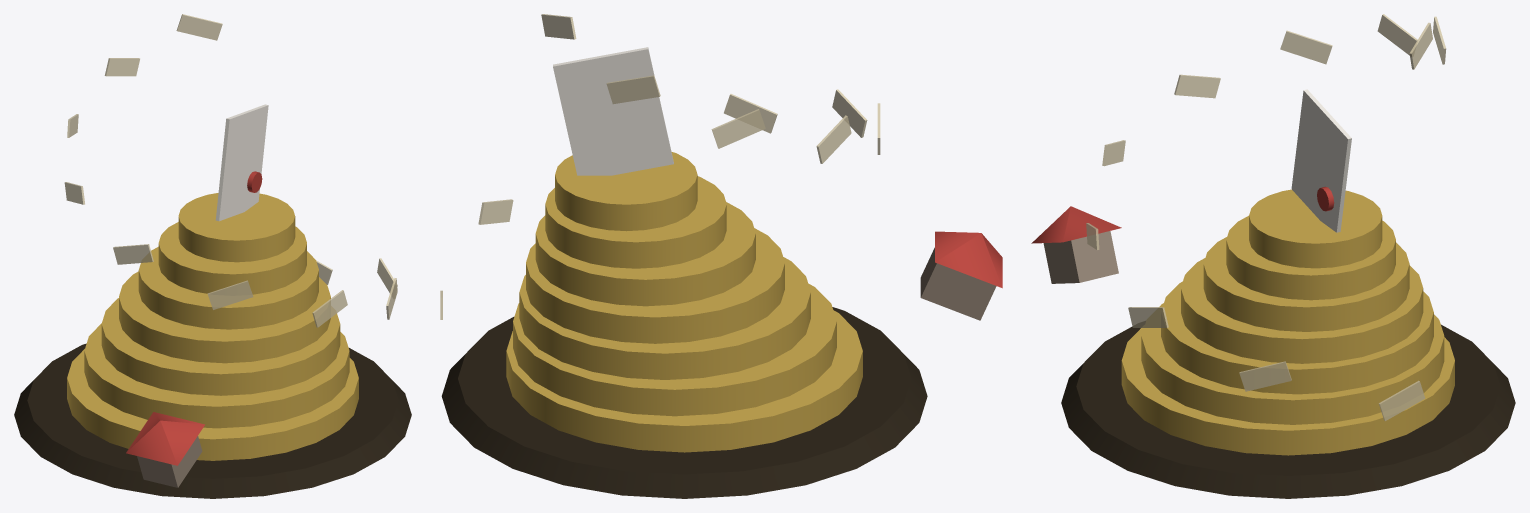
File: coin_tower.glb
3 renders of one model, left to right at view 1: azimuth 30°, elevation 25°; view 2: azimuth 150°, elevation 25°; view 3: azimuth 270°, elevation 25°, orthographic. The views are drawn at different scales.
Size of the model in its own units: 1.51 by 1.45 by 1.6.
